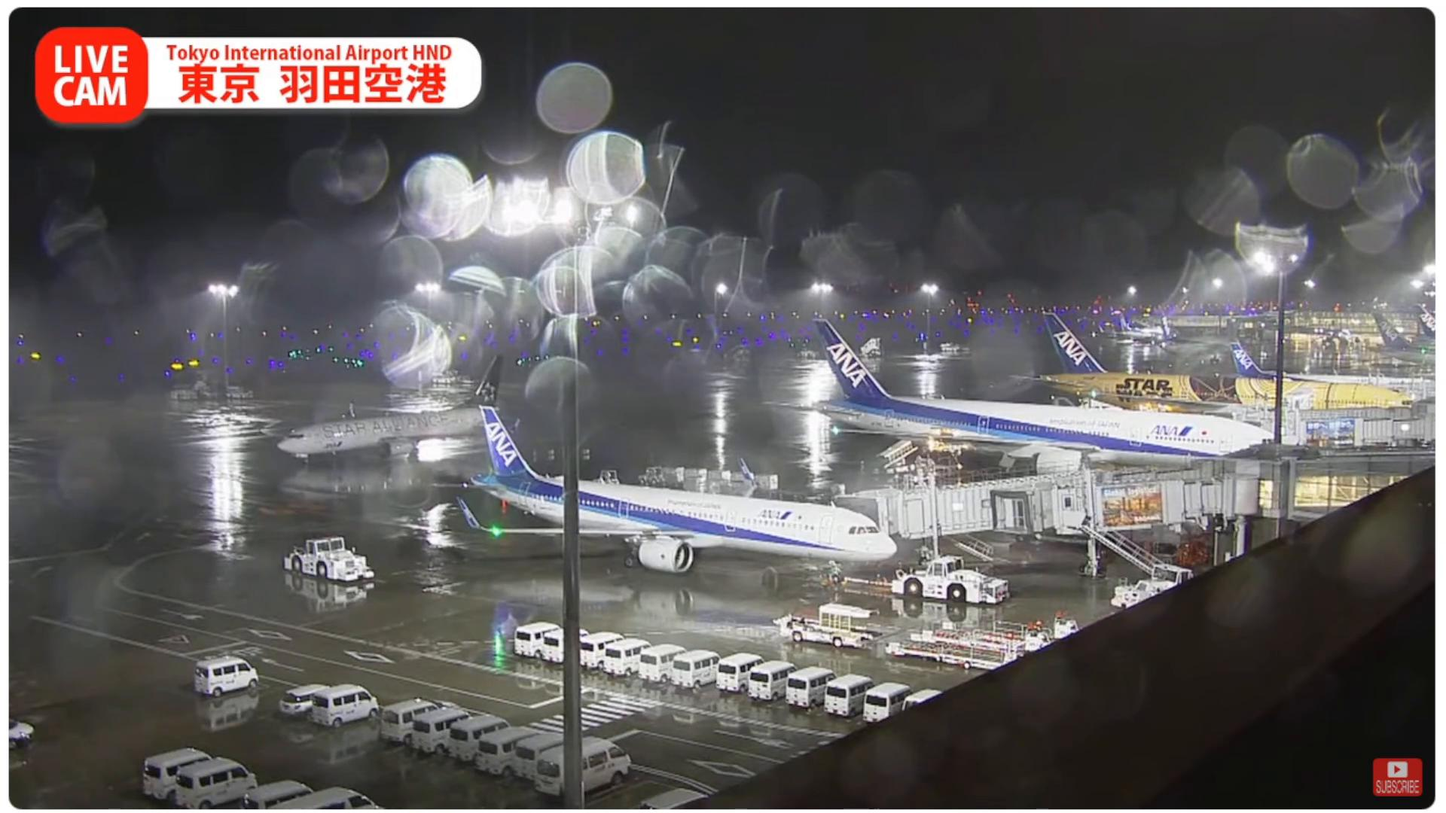APS: (888, 552, 1008, 605), (284, 534, 378, 583)
Aerobridge: (839, 461, 1195, 539), (988, 472, 1227, 537)
Airplane: (461, 406, 899, 585)
Baggage truck: (769, 601, 886, 648)
JCPL: (911, 618, 1081, 655), (884, 634, 1027, 672)
Window: (1291, 475, 1415, 508)
